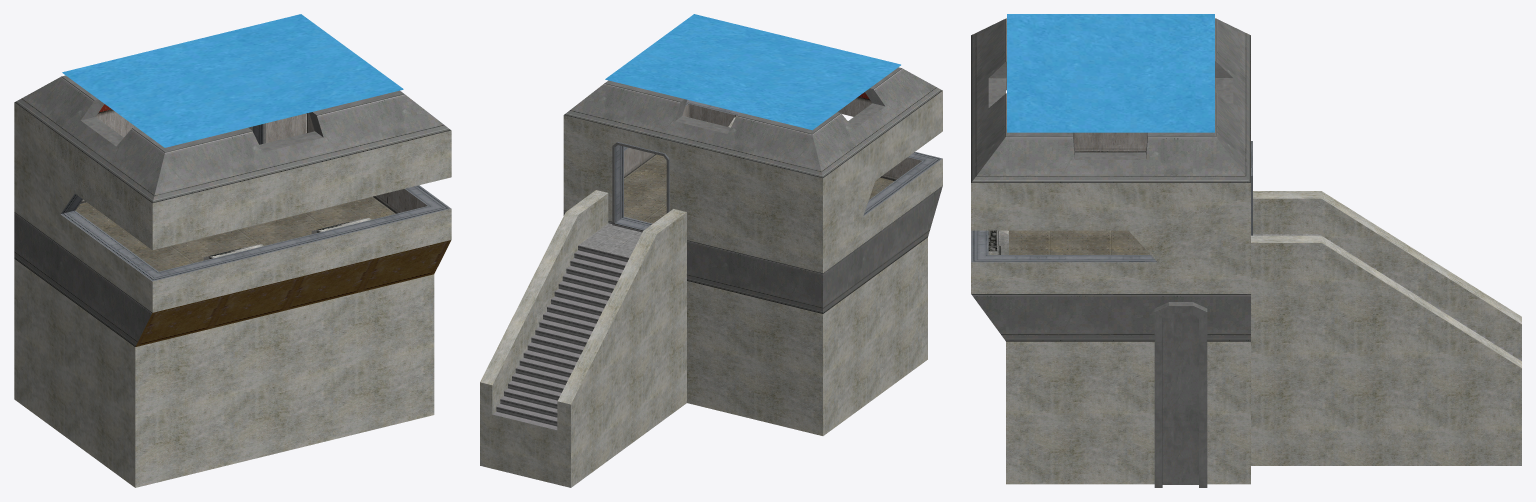
Rendered from mun_all_military_base_gate_house_rebl_s01_l0.fbx.
3 renders of one model, left to right at view 1: azimuth 30°, elevation 25°; view 2: azimuth 150°, elevation 25°; view 3: azimuth 270°, elevation 25°, orthographic. The views are drawn at different scales.
Visible parts, largest first — view 1: mesh_node; view 2: mesh_node; view 3: mesh_node.
Part boxes in pixels (bbox=[...]): mesh_node: bbox=[14, 14, 451, 487]; mesh_node: bbox=[480, 14, 942, 487]; mesh_node: bbox=[971, 14, 1521, 487].
Bounding box in the file's own units: 10.25 × 10.64 × 15.74.
